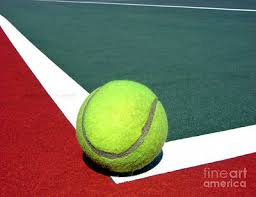tennis_ball: (74, 79, 169, 173)
